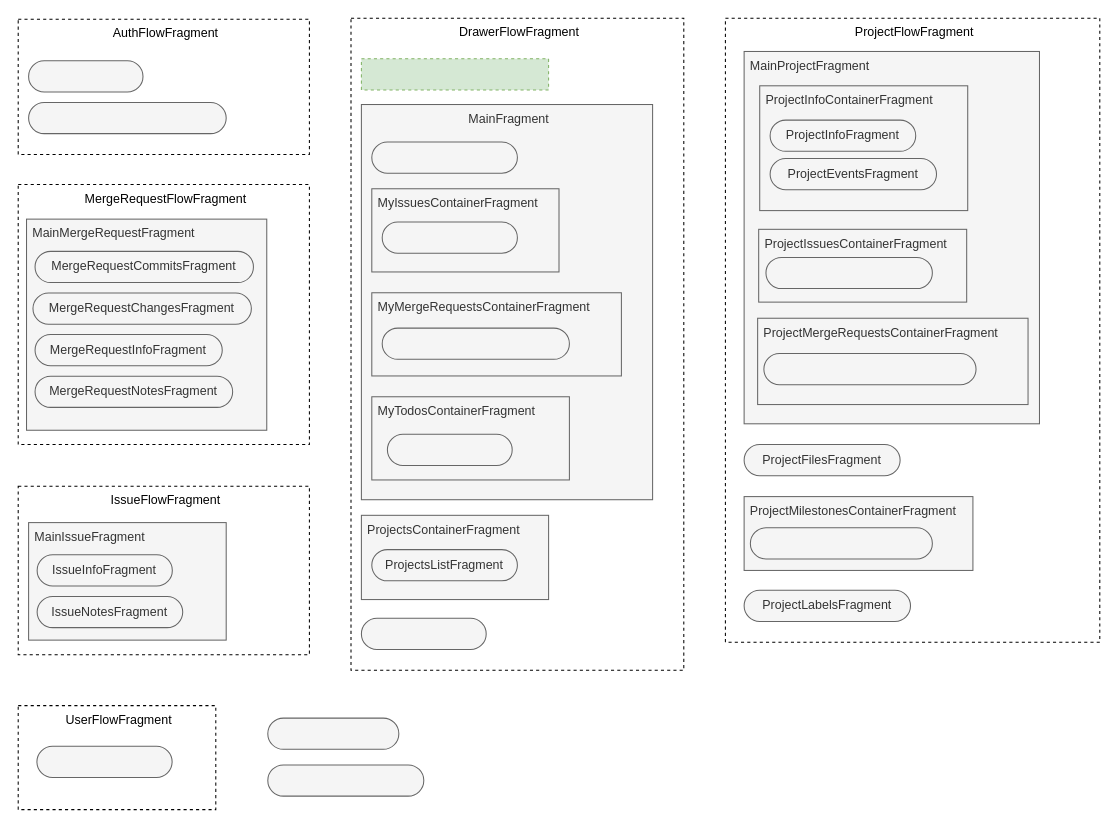
Image size: 1118x828. Some labels were removed from this diagram. Here are the shapes that lost their labels. From the top down, the centre of each, then its label:
pixel 85 76: AuthFragment
pixel 454 74: NavigationDrawerFragment
pixel 127 117: CustomServerAuthFragment
pixel 444 157: MyEventsFragment
pixel 449 237: MyIssuesFragment
pixel 848 272: ProjectIssuesFragment
pixel 475 343: MyMergeRequestsFragment
pixel 869 369: ProjectMergeRequestsFragment
pixel 449 449: MyTodosFragment
pixel 840 543: ProjectMilestonesFragment
pixel 423 633: AboutFragment
pixel 333 733: LibariesFragment
pixel 104 761: UserInfoFragment
pixel 345 780: PrivacyPolicyFragment
